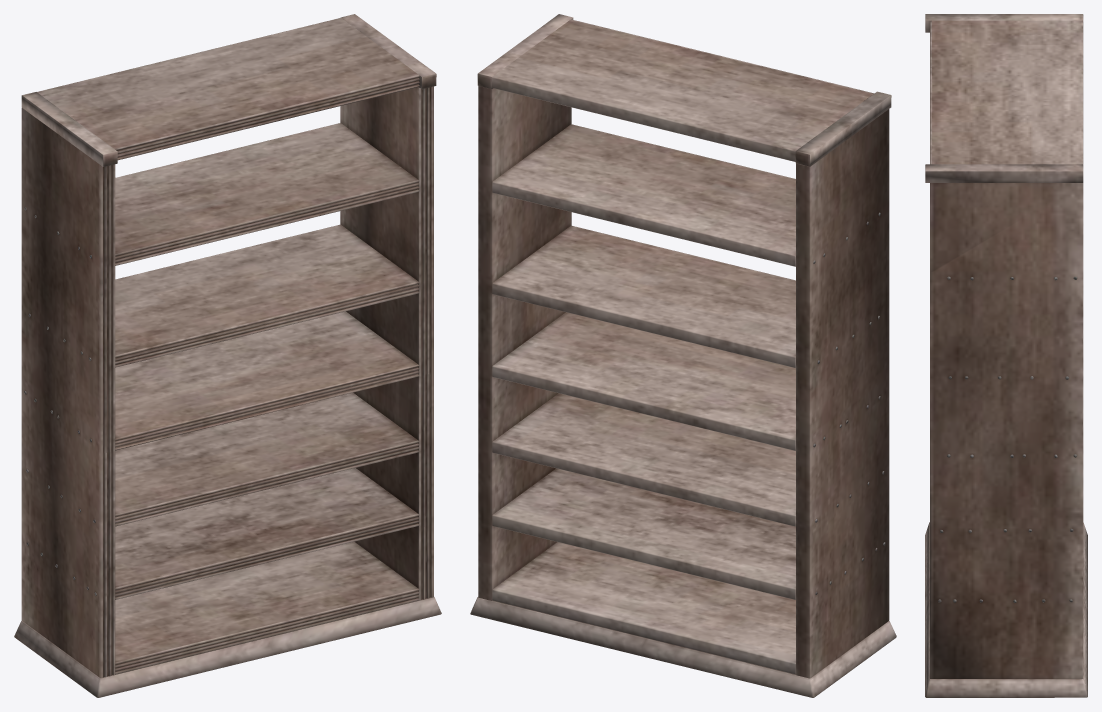
File: wooden_bookshelf_worn.glb
3 renders of one model, left to right at view 1: azimuth 30°, elevation 25°; view 2: azimuth 150°, elevation 25°; view 3: azimuth 270°, elevation 25°, orthographic. The views are drawn at different scales.
Visible parts, largest first — view 1: wooden_bookshelf_worn; view 2: wooden_bookshelf_worn; view 3: wooden_bookshelf_worn.
Part boxes in pixels (x1=…): wooden_bookshelf_worn: x1=14, y1=14, x2=441, y2=697; wooden_bookshelf_worn: x1=470, y1=14, x2=896, y2=697; wooden_bookshelf_worn: x1=925, y1=14, x2=1087, y2=697.
Bounding box in the file's own units: 1.37 × 2.06 × 0.5814.
1 material, 1 textured.
